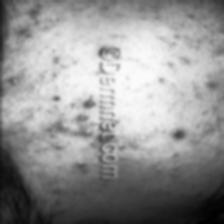Non-Cancerous Skin Condition: (48, 94, 98, 140), (171, 131, 183, 136)
